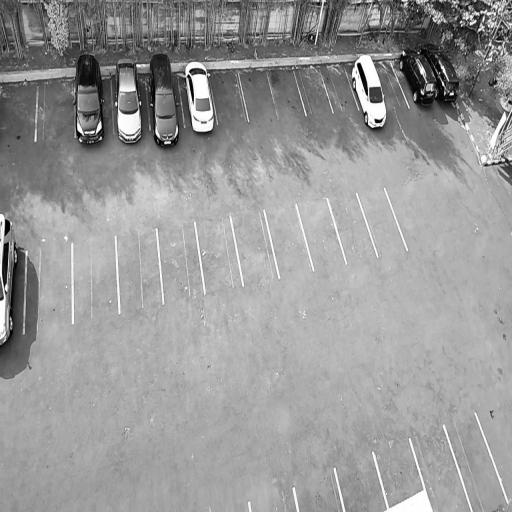Car: (145, 52, 182, 149), (347, 48, 390, 131), (74, 51, 106, 146), (0, 210, 22, 348), (395, 39, 437, 111), (112, 56, 145, 147), (180, 60, 218, 139), (418, 40, 460, 104)
Space Available: (444, 413, 508, 512), (412, 427, 471, 512), (26, 244, 71, 334), (74, 236, 119, 324), (158, 221, 205, 304), (117, 230, 163, 313), (231, 209, 279, 287), (196, 215, 243, 294), (297, 197, 346, 272), (356, 186, 407, 257), (265, 205, 313, 279), (328, 193, 377, 263), (374, 440, 423, 508), (336, 453, 387, 512), (0, 86, 38, 146), (36, 82, 74, 140), (295, 469, 344, 512), (210, 72, 248, 123), (240, 71, 278, 121), (319, 65, 358, 113), (294, 68, 332, 115), (267, 71, 305, 117), (376, 59, 408, 111), (250, 488, 297, 512)
